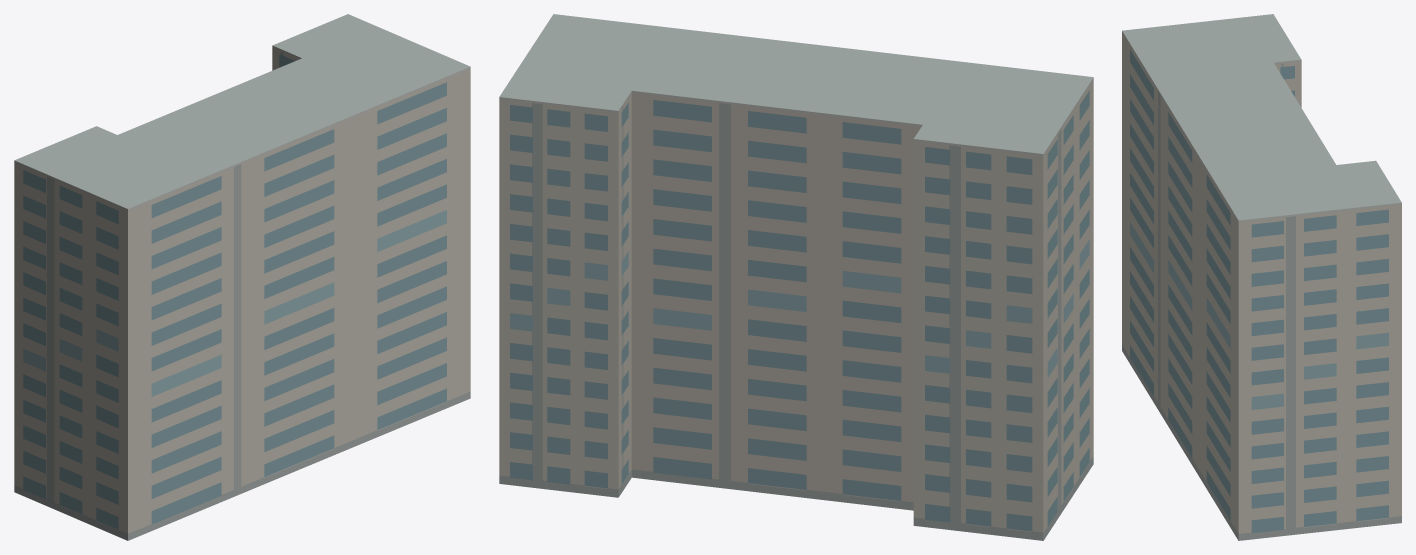
Rendered from residential-ff6d5ca4-fb2f-484c-9aac-0592ee42e78a.glb.
3 renders of one model, left to right at view 1: azimuth 30°, elevation 25°; view 2: azimuth 150°, elevation 25°; view 3: azimuth 270°, elevation 25°, orthographic. The views are drawn at different scales.
Parts seen in each view (by area): view 1: residential-ff6d5ca4-fb2f-484c-9aac-0592ee42e78a.tmp; view 2: residential-ff6d5ca4-fb2f-484c-9aac-0592ee42e78a.tmp; view 3: residential-ff6d5ca4-fb2f-484c-9aac-0592ee42e78a.tmp.
Part boxes in pixels (x1=…): residential-ff6d5ca4-fb2f-484c-9aac-0592ee42e78a.tmp: x1=14, y1=14, x2=470, y2=540; residential-ff6d5ca4-fb2f-484c-9aac-0592ee42e78a.tmp: x1=499, y1=14, x2=1093, y2=540; residential-ff6d5ca4-fb2f-484c-9aac-0592ee42e78a.tmp: x1=1122, y1=14, x2=1401, y2=540.
Size of the model in its own units: 56.69 by 41 by 32.46.
